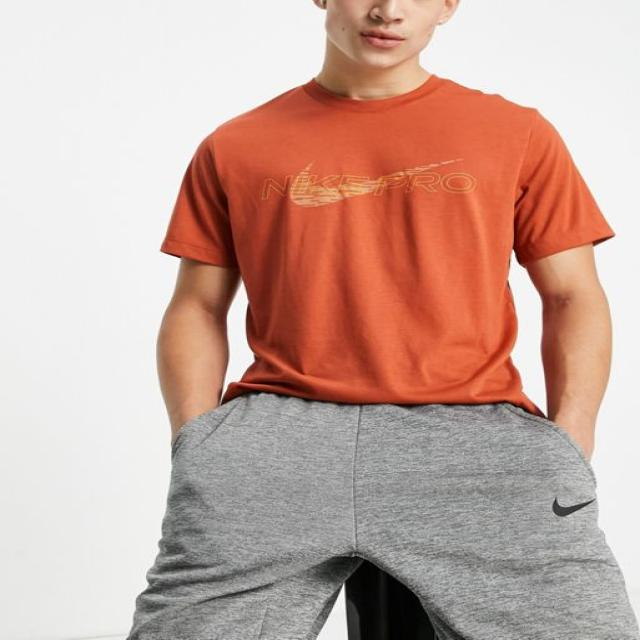tshirt: (158, 72, 614, 412)
